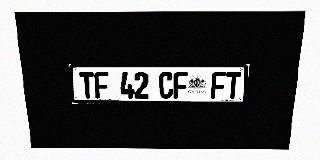2: (134, 72, 149, 99)
4: (119, 72, 134, 98)
C: (159, 72, 173, 99)
F: (173, 72, 188, 99), (211, 72, 226, 99), (94, 72, 109, 98)
T: (225, 72, 241, 99), (79, 72, 95, 98)
